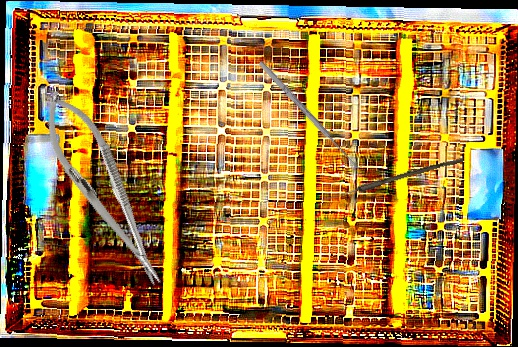Hook Surgical: (256, 56, 367, 172)
Needle Holder: (26, 79, 180, 299)
Surgical Spoon: (321, 154, 464, 205)
